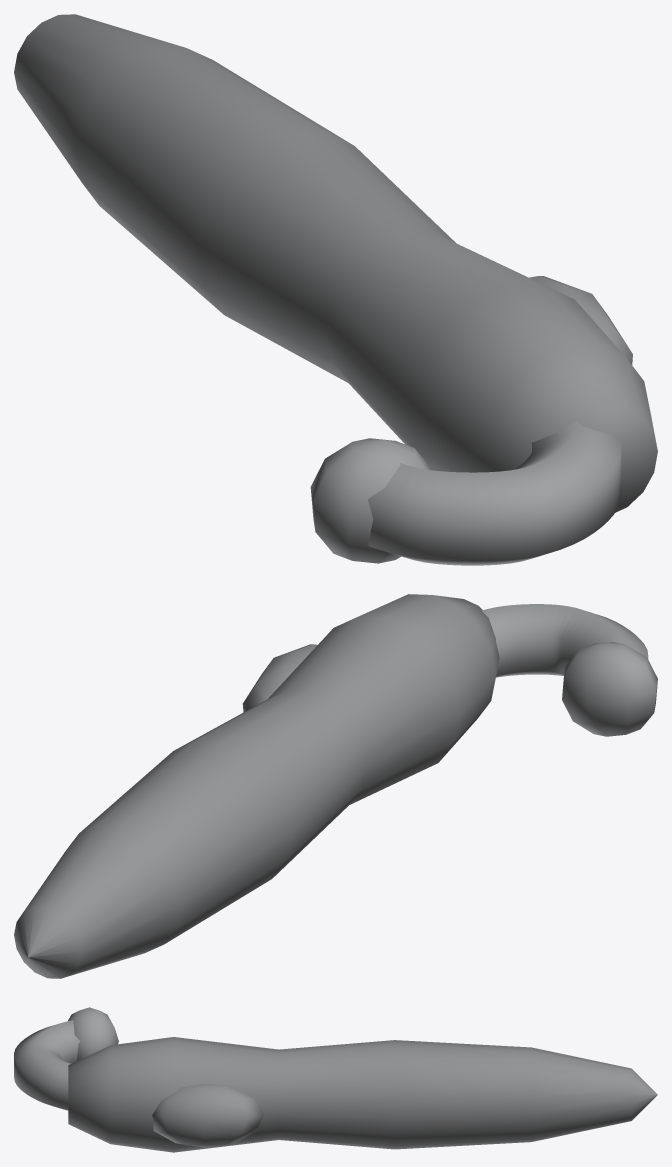
3 views of the same model, one above another, from view 1: azimuth 30°, elevation 25°; view 2: azimuth 150°, elevation 25°; view 3: azimuth 270°, elevation 25° (orthographic). The views are drawn at different scales.
Bounding box in the file's own units: 0.23 × 0.11 × 0.6116.
